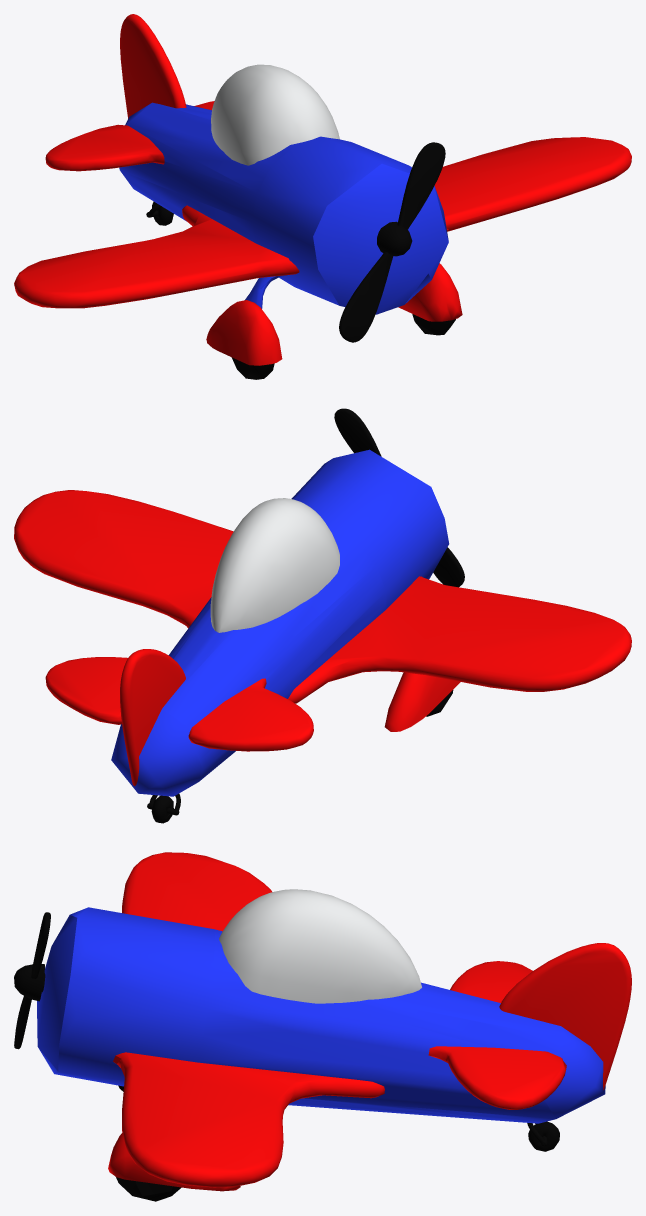
File: toyplane.obj
The picture shows the model from 3 angles, top to bottom: view 1: azimuth 30°, elevation 25°; view 2: azimuth 150°, elevation 25°; view 3: azimuth 270°, elevation 25°; orthographic projection. The views are drawn at different scales.
Parts seen in each view (by area): view 1: mat_001221, mat_001201, mat_001211, mat_001231; view 2: mat_001221, mat_001201, mat_001211, mat_001231; view 3: mat_001201, mat_001221, mat_001211, mat_001231.
Boxes of the visible parts, left/top/right/bottom form: mat_001221: left=14, top=14, right=631, bottom=365; mat_001201: left=119, top=102, right=448, bottom=314; mat_001211: left=211, top=64, right=339, bottom=165; mat_001231: left=146, top=142, right=455, bottom=379; mat_001221: left=14, top=490, right=631, bottom=786; mat_001201: left=111, top=449, right=449, bottom=796; mat_001211: left=210, top=498, right=339, bottom=632; mat_001231: left=147, top=408, right=464, bottom=823; mat_001201: left=37, top=907, right=605, bottom=1123; mat_001221: left=108, top=852, right=631, bottom=1191; mat_001211: left=219, top=889, right=421, bottom=1003; mat_001231: left=14, top=912, right=559, bottom=1201.
Bounding box in the file's own units: 240 × 90.99 × 196.
